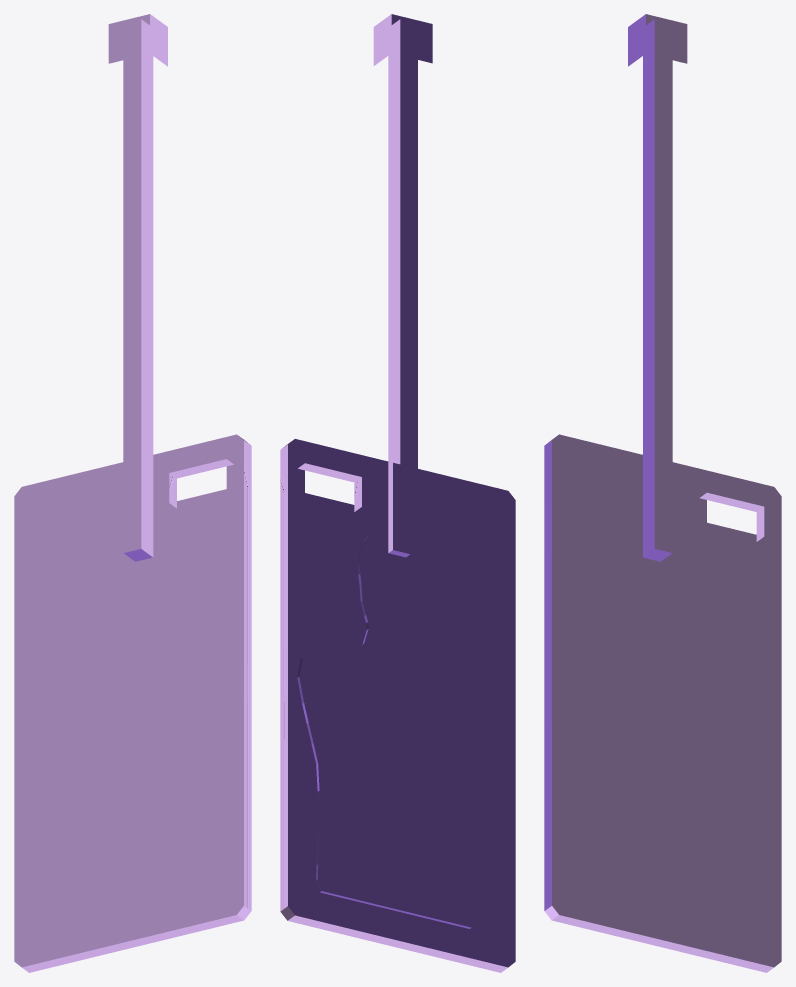
The model's file is uee_lawless_prop_firingrangetarget_base_01.glb.
3 views of the same model, side by side, from view 1: azimuth 30°, elevation 25°; view 2: azimuth 150°, elevation 25°; view 3: azimuth 330°, elevation 25° (orthographic).
Bounding box in the file's own units: 0.5 × 1.92 × 0.0754.
